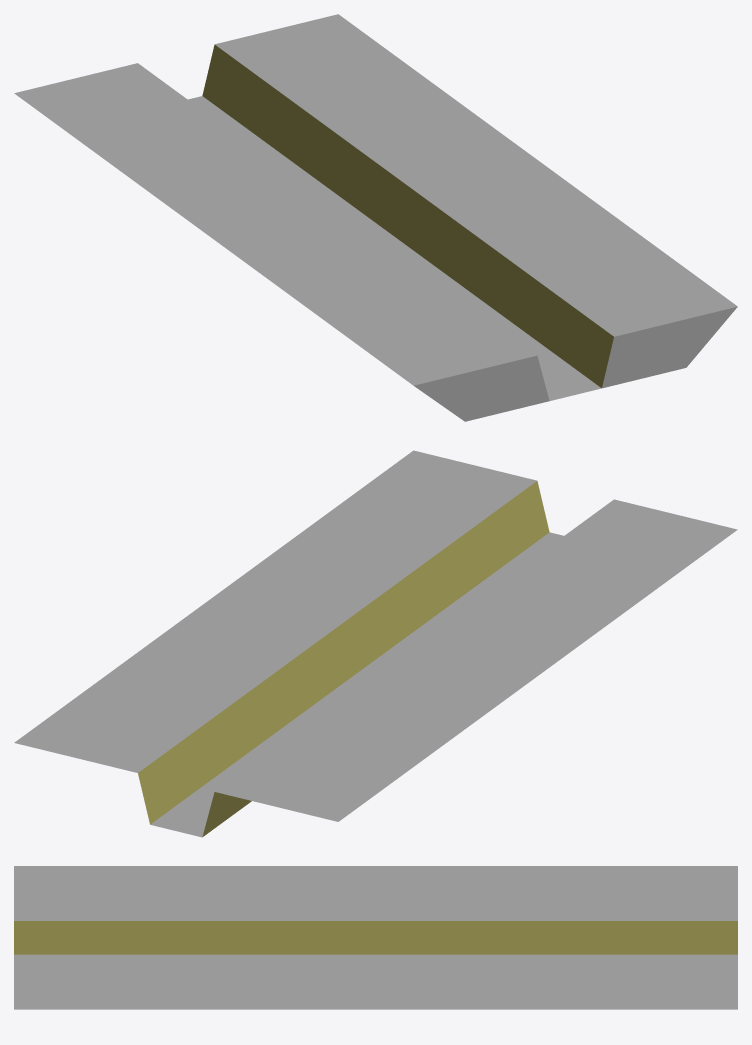
The model's file is ravine_straight.fbx.
3 views of the same model, one above another, from view 1: azimuth 30°, elevation 25°; view 2: azimuth 150°, elevation 25°; view 3: azimuth 270°, elevation 25° (orthographic). The views are drawn at different scales.
Parts seen in each view (by area): view 1: pPlane1; view 2: pPlane1; view 3: pPlane1.
Part boxes in pixels (x1,y1,x2,y2): pPlane1: (14, 14, 737, 421); pPlane1: (14, 450, 737, 837); pPlane1: (14, 866, 737, 1009).
Size of the model in its own units: 10548 by 1512 by 22500.
